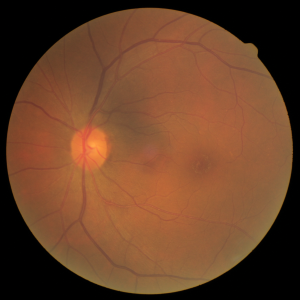cataract: (30, 95, 237, 207)
